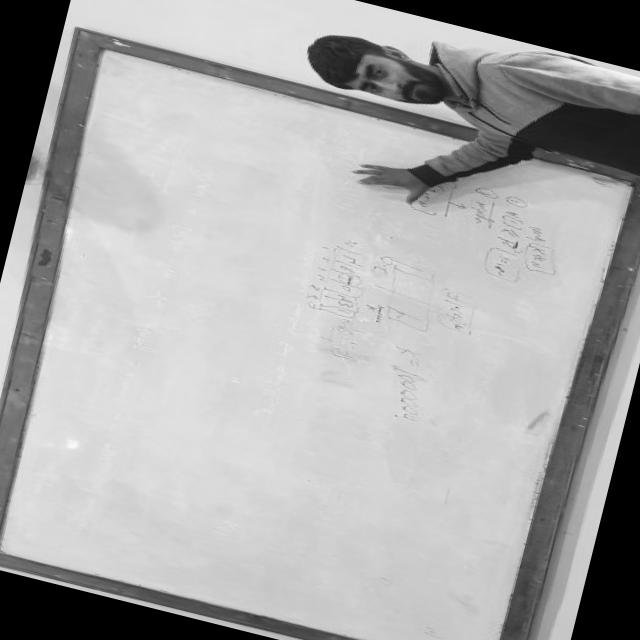Instructor: (270, 0, 640, 194)
White-board: (0, 37, 640, 640)
